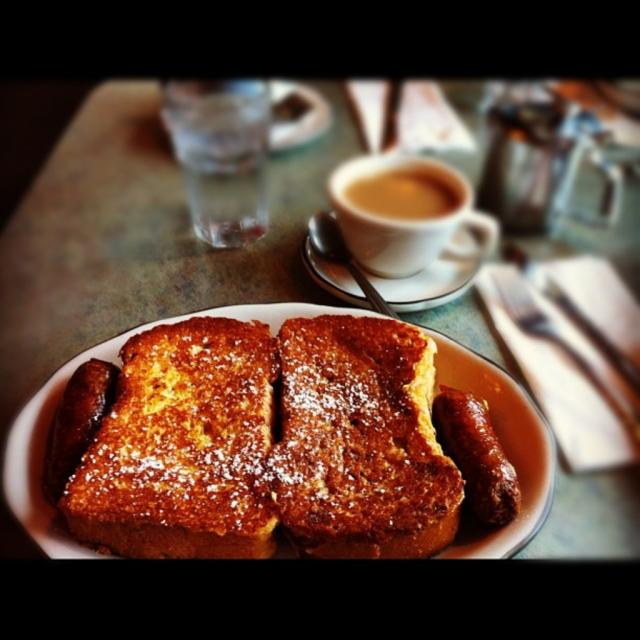Tea: (338, 167, 460, 220)
